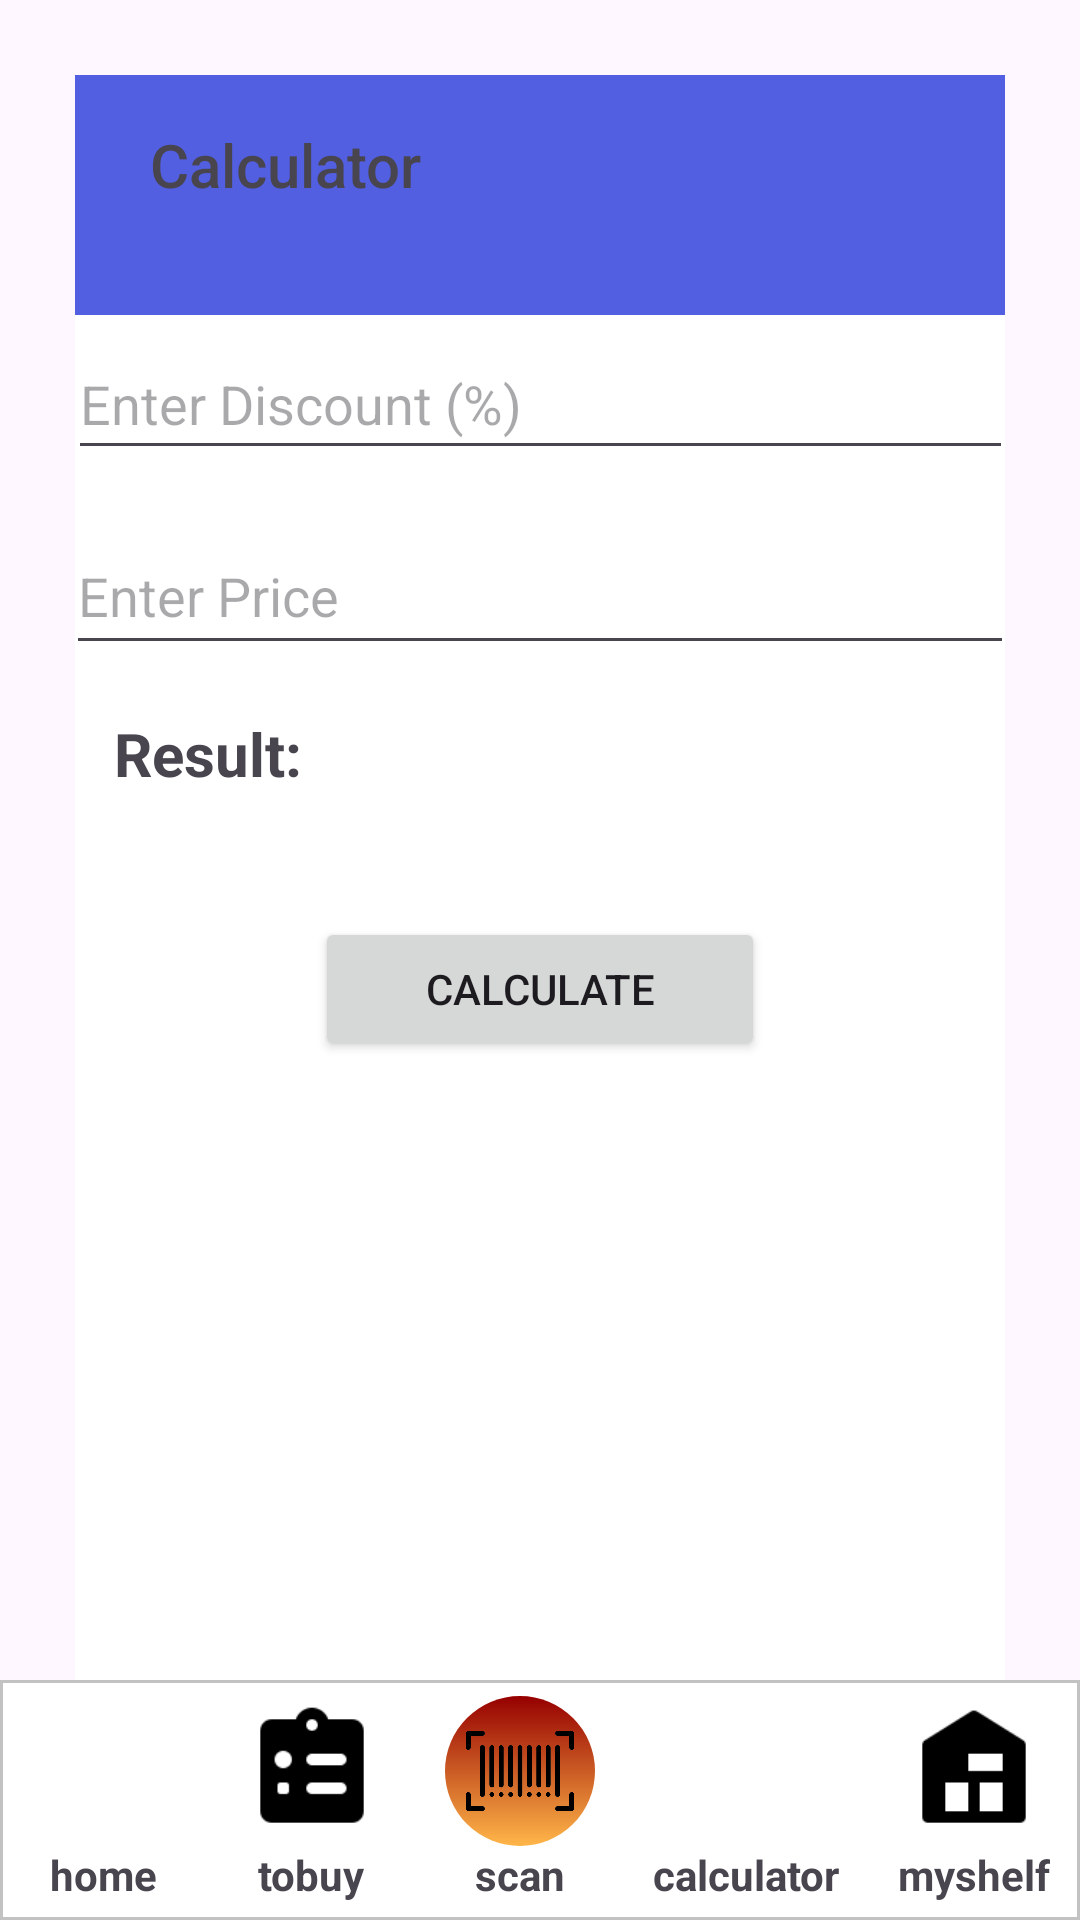

Icon click points for this 1080px×1920px phone screenshot, format [x,y]:
barcode: [520,1771]
